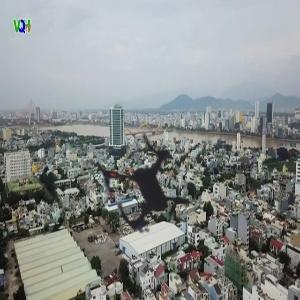drone: (49, 83, 254, 288)
